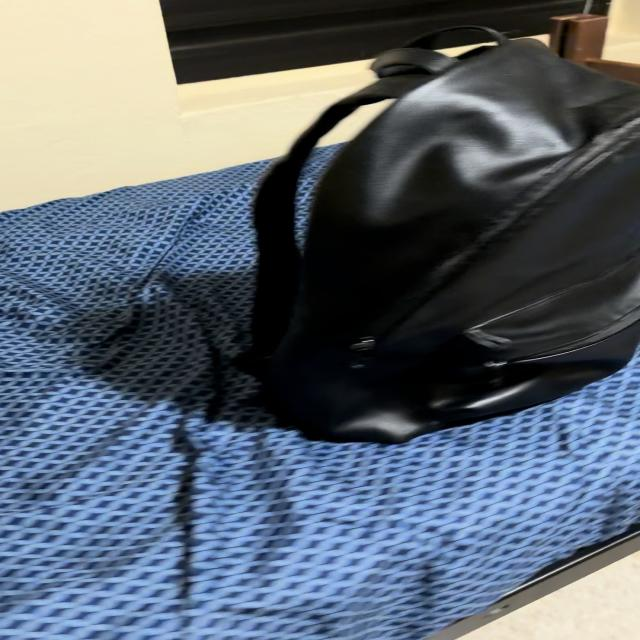backpack: (245, 29, 639, 443), (471, 27, 480, 28), (462, 27, 468, 28), (435, 34, 437, 34)
